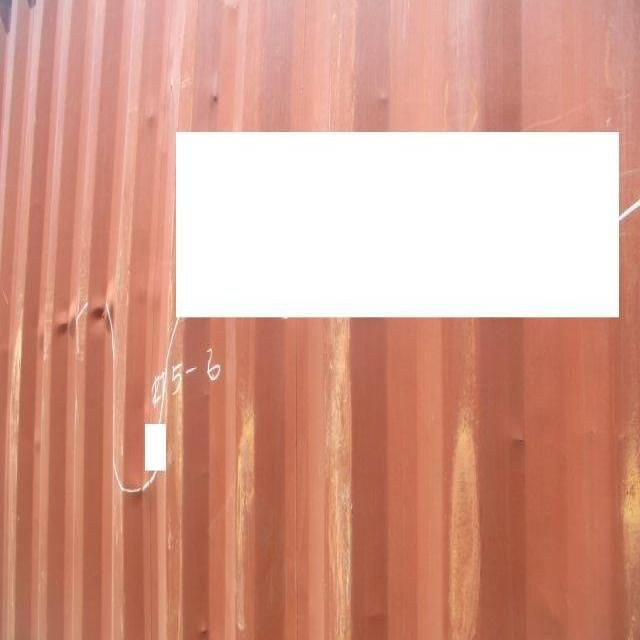dent: (49, 276, 134, 356)
